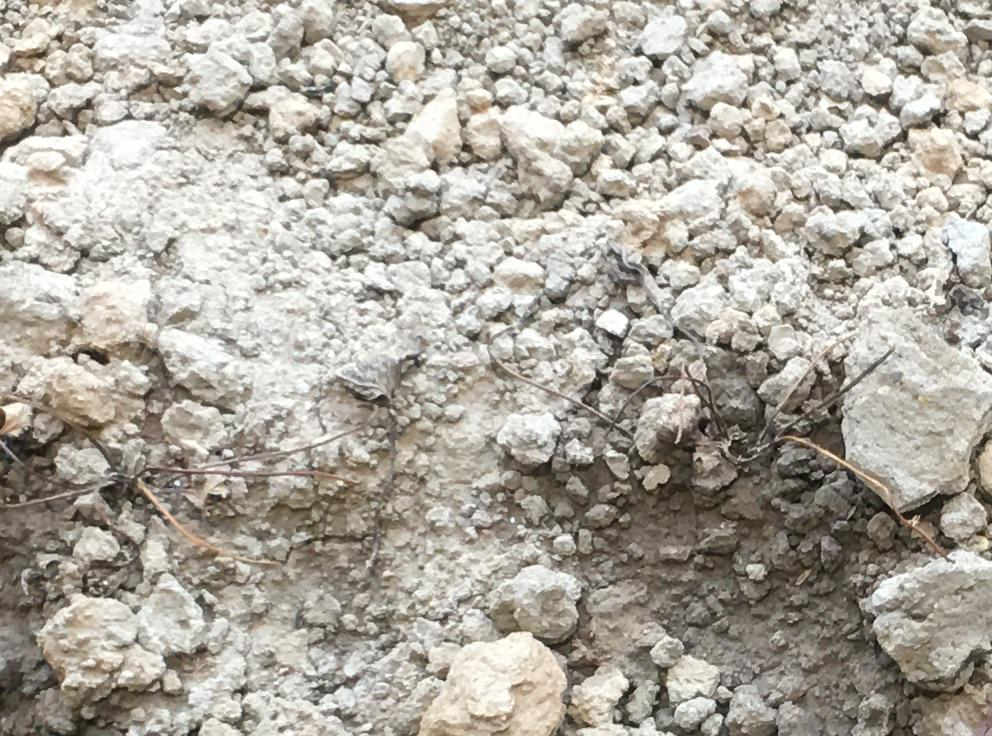block: (837, 297, 992, 517), (863, 547, 992, 688), (414, 637, 565, 736), (33, 600, 167, 696)
